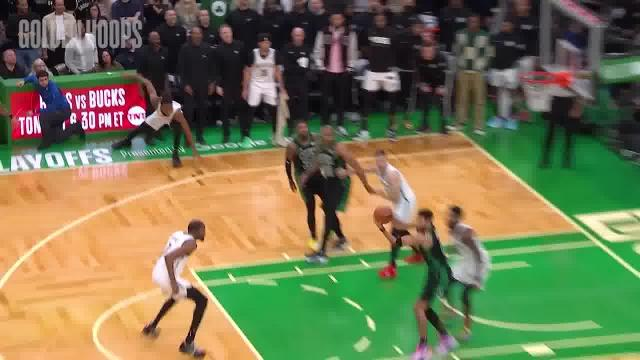ball-handler: (368, 201, 453, 360)
player: (140, 216, 208, 359), (440, 199, 490, 344), (281, 119, 326, 255), (316, 126, 359, 254), (390, 154, 420, 280)
